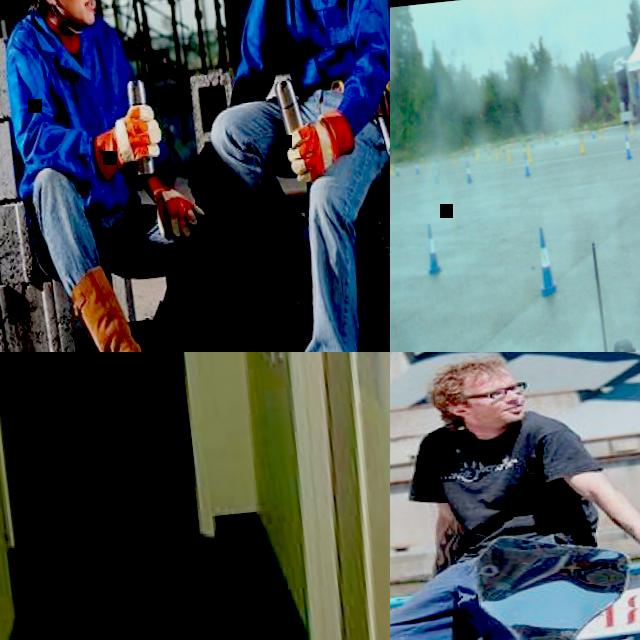NO-Hardhat: (427, 356, 510, 394)
NO-Mask: (464, 397, 527, 427), (59, 0, 96, 23)
NO-Safety Vest: (418, 404, 586, 550), (20, 11, 135, 202), (248, 0, 370, 95)
Person: (0, 0, 229, 352), (167, 0, 390, 352), (390, 352, 640, 640)
Safety Cone: (531, 224, 558, 296), (420, 223, 442, 276), (621, 132, 632, 160), (520, 152, 530, 176), (463, 160, 471, 183), (577, 133, 584, 154), (504, 144, 511, 163), (431, 164, 438, 183), (472, 144, 479, 161), (525, 144, 531, 162), (413, 158, 419, 174), (493, 144, 499, 160), (485, 146, 491, 160), (628, 120, 633, 135), (553, 132, 558, 146), (521, 138, 526, 152), (450, 150, 455, 164), (394, 163, 399, 176), (470, 144, 475, 157), (597, 127, 602, 139), (591, 127, 596, 139), (563, 132, 567, 146), (529, 136, 533, 148), (390, 163, 394, 175), (601, 120, 606, 128), (539, 130, 543, 139), (569, 124, 573, 133), (583, 124, 587, 132)
